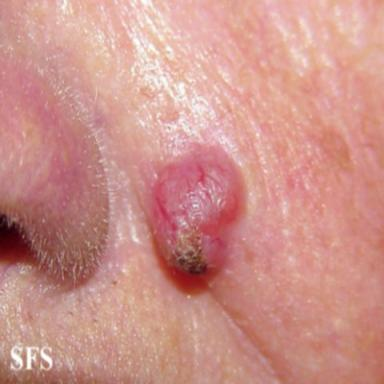basal-cell-carcinoma: (151, 146, 244, 273)
